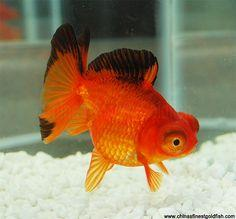goldfish: (35, 21, 204, 196)
